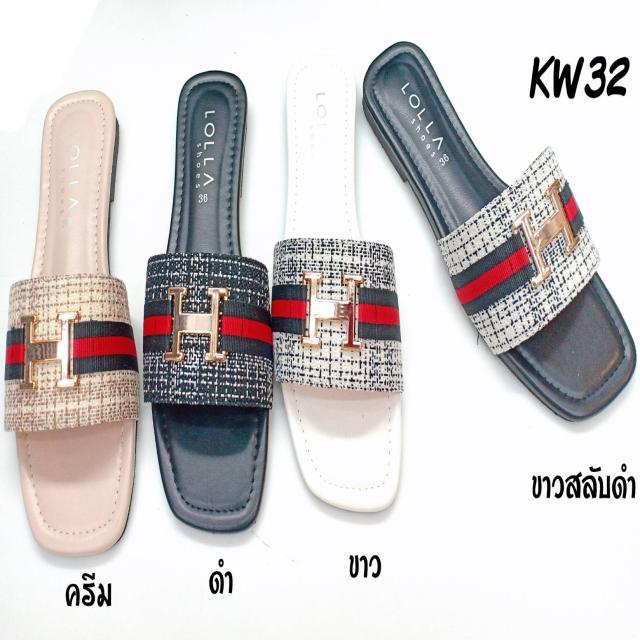black: (145, 68, 268, 520)
cream: (22, 89, 133, 554)
white: (278, 56, 402, 510)
white-black: (363, 38, 638, 424)
